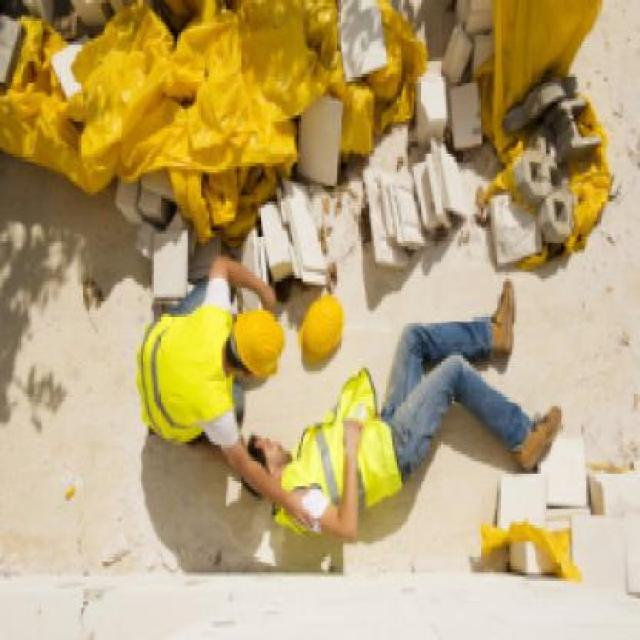Vest: (271, 360, 406, 534), (139, 298, 235, 445)
helmet: (226, 304, 288, 381), (303, 284, 346, 364)
person: (248, 261, 551, 544), (142, 254, 288, 476)
